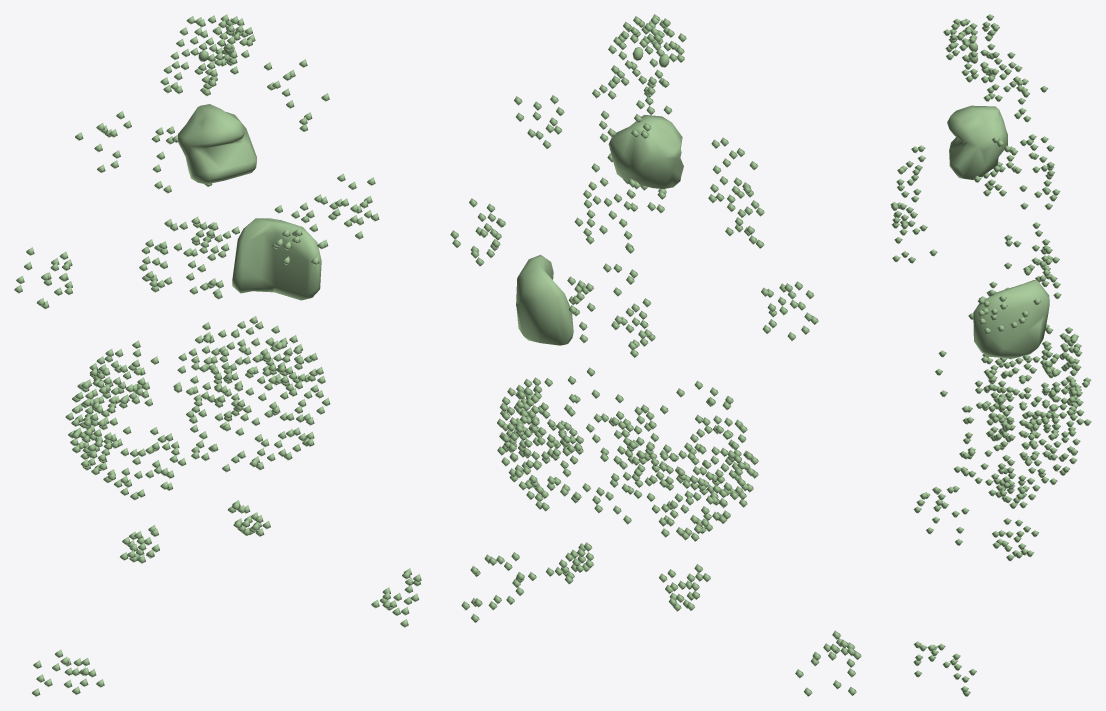
The model's file is pediatric_neonate_female.lymphatic.LOD2.glb.
3 views of the same model, side by side, from view 1: azimuth 30°, elevation 25°; view 2: azimuth 150°, elevation 25°; view 3: azimuth 270°, elevation 25° (orthographic). The views are drawn at different scales.
Visible parts, largest first — view 1: PEDIATRIC.NEONATE.FEMALE.LYMPHATIC.LYMPHATIC_NODES_TRUNK, PEDIATRIC.NEONATE.FEMALE.LYMPHATIC.SPLEEN, PEDIATRIC.NEONATE.FEMALE.LYMPHATIC.THYMUS, PEDIATRIC.NEONATE.FEMALE.LYMPHATIC.LYMPHATIC_NODES_ET, PEDIATRIC.NEONATE.FEMALE.LYMPHATIC.LYMPHATIC_NODES_THORACIC, PEDIATRIC.NEONATE.FEMALE.LYMPHATIC.LYMPHATIC_NODES_LEGS, PEDIATRIC.NEONATE.FEMALE.LYMPHATIC.LYMPHATIC_NODES_ARMS, PEDIATRIC.NEONATE.FEMALE.LYMPHATIC.LYMPHATIC_NODES_HEAD; view 2: PEDIATRIC.NEONATE.FEMALE.LYMPHATIC.LYMPHATIC_NODES_TRUNK, PEDIATRIC.NEONATE.FEMALE.LYMPHATIC.THYMUS, PEDIATRIC.NEONATE.FEMALE.LYMPHATIC.SPLEEN, PEDIATRIC.NEONATE.FEMALE.LYMPHATIC.LYMPHATIC_NODES_THORACIC, PEDIATRIC.NEONATE.FEMALE.LYMPHATIC.LYMPHATIC_NODES_ET, PEDIATRIC.NEONATE.FEMALE.LYMPHATIC.LYMPHATIC_NODES_ARMS, PEDIATRIC.NEONATE.FEMALE.LYMPHATIC.LYMPHATIC_NODES_LEGS, PEDIATRIC.NEONATE.FEMALE.LYMPHATIC.LYMPHATIC_NODES_HEAD; view 3: PEDIATRIC.NEONATE.FEMALE.LYMPHATIC.LYMPHATIC_NODES_TRUNK, PEDIATRIC.NEONATE.FEMALE.LYMPHATIC.SPLEEN, PEDIATRIC.NEONATE.FEMALE.LYMPHATIC.THYMUS, PEDIATRIC.NEONATE.FEMALE.LYMPHATIC.LYMPHATIC_NODES_THORACIC, PEDIATRIC.NEONATE.FEMALE.LYMPHATIC.LYMPHATIC_NODES_ET, PEDIATRIC.NEONATE.FEMALE.LYMPHATIC.LYMPHATIC_NODES_LEGS, PEDIATRIC.NEONATE.FEMALE.LYMPHATIC.LYMPHATIC_NODES_ARMS, PEDIATRIC.NEONATE.FEMALE.LYMPHATIC.LYMPHATIC_NODES_HEAD.
Part boxes in pixels (bbox=[...]): PEDIATRIC.NEONATE.FEMALE.LYMPHATIC.LYMPHATIC_NODES_TRUNK: bbox=[65, 59, 330, 563]; PEDIATRIC.NEONATE.FEMALE.LYMPHATIC.SPLEEN: bbox=[232, 218, 321, 300]; PEDIATRIC.NEONATE.FEMALE.LYMPHATIC.THYMUS: bbox=[178, 104, 256, 184]; PEDIATRIC.NEONATE.FEMALE.LYMPHATIC.LYMPHATIC_NODES_ET: bbox=[176, 14, 255, 87]; PEDIATRIC.NEONATE.FEMALE.LYMPHATIC.LYMPHATIC_NODES_THORACIC: bbox=[139, 126, 239, 299]; PEDIATRIC.NEONATE.FEMALE.LYMPHATIC.LYMPHATIC_NODES_LEGS: bbox=[32, 568, 421, 696]; PEDIATRIC.NEONATE.FEMALE.LYMPHATIC.LYMPHATIC_NODES_ARMS: bbox=[14, 173, 379, 309]; PEDIATRIC.NEONATE.FEMALE.LYMPHATIC.LYMPHATIC_NODES_HEAD: bbox=[160, 44, 231, 96]; PEDIATRIC.NEONATE.FEMALE.LYMPHATIC.LYMPHATIC_NODES_TRUNK: bbox=[497, 95, 764, 611]; PEDIATRIC.NEONATE.FEMALE.LYMPHATIC.THYMUS: bbox=[608, 115, 683, 188]; PEDIATRIC.NEONATE.FEMALE.LYMPHATIC.SPLEEN: bbox=[516, 254, 573, 345]; PEDIATRIC.NEONATE.FEMALE.LYMPHATIC.LYMPHATIC_NODES_THORACIC: bbox=[567, 177, 655, 357]; PEDIATRIC.NEONATE.FEMALE.LYMPHATIC.LYMPHATIC_NODES_ET: bbox=[608, 14, 686, 95]; PEDIATRIC.NEONATE.FEMALE.LYMPHATIC.LYMPHATIC_NODES_ARMS: bbox=[450, 198, 818, 340]; PEDIATRIC.NEONATE.FEMALE.LYMPHATIC.LYMPHATIC_NODES_LEGS: bbox=[461, 552, 861, 696]; PEDIATRIC.NEONATE.FEMALE.LYMPHATIC.LYMPHATIC_NODES_HEAD: bbox=[592, 75, 672, 142]; PEDIATRIC.NEONATE.FEMALE.LYMPHATIC.LYMPHATIC_NODES_TRUNK: bbox=[890, 58, 1091, 561]; PEDIATRIC.NEONATE.FEMALE.LYMPHATIC.SPLEEN: bbox=[973, 280, 1049, 358]; PEDIATRIC.NEONATE.FEMALE.LYMPHATIC.THYMUS: bbox=[947, 105, 1007, 179]; PEDIATRIC.NEONATE.FEMALE.LYMPHATIC.LYMPHATIC_NODES_THORACIC: bbox=[1004, 134, 1061, 298]; PEDIATRIC.NEONATE.FEMALE.LYMPHATIC.LYMPHATIC_NODES_ET: bbox=[943, 14, 999, 83]; PEDIATRIC.NEONATE.FEMALE.LYMPHATIC.LYMPHATIC_NODES_LEGS: bbox=[913, 485, 976, 696]; PEDIATRIC.NEONATE.FEMALE.LYMPHATIC.LYMPHATIC_NODES_ARMS: bbox=[977, 153, 1040, 334]; PEDIATRIC.NEONATE.FEMALE.LYMPHATIC.LYMPHATIC_NODES_HEAD: bbox=[981, 52, 1030, 122].
Bounding box in the file's own units: 0.1868 × 0.2975 × 0.0909.
